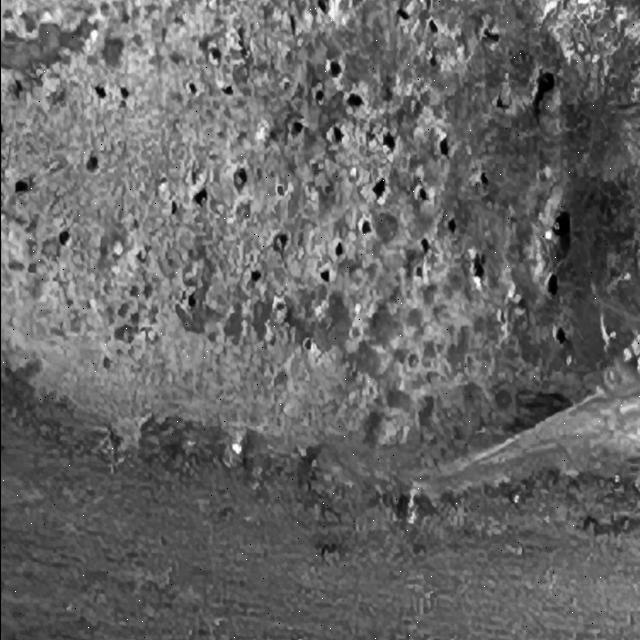Excess Reinforcement: (395, 462, 451, 525)
Porosity: (1, 3, 640, 448), (409, 238, 430, 287), (534, 72, 554, 113), (552, 212, 569, 260), (469, 248, 485, 290), (482, 27, 499, 50), (428, 17, 442, 43), (470, 172, 488, 192), (206, 42, 221, 65), (325, 125, 344, 143), (272, 232, 288, 253), (232, 168, 246, 192), (371, 178, 385, 198), (547, 273, 558, 297), (382, 132, 395, 152), (192, 188, 206, 205), (346, 93, 362, 107), (119, 87, 129, 108), (185, 82, 198, 97), (329, 62, 341, 78), (14, 180, 28, 193), (275, 183, 288, 197), (86, 157, 98, 172), (439, 137, 448, 156), (555, 328, 565, 345), (496, 97, 509, 110), (317, 0, 328, 15), (290, 122, 302, 135), (396, 8, 409, 20), (59, 230, 69, 245), (418, 187, 428, 202), (314, 90, 324, 105), (360, 220, 370, 235), (94, 85, 105, 98), (221, 85, 232, 97), (334, 242, 342, 258), (448, 218, 456, 233), (250, 270, 260, 282), (319, 270, 329, 282), (302, 338, 312, 350), (188, 292, 195, 308), (170, 202, 178, 215), (429, 53, 436, 67)
Spatters: (496, 97, 509, 110), (87, 157, 98, 172)
